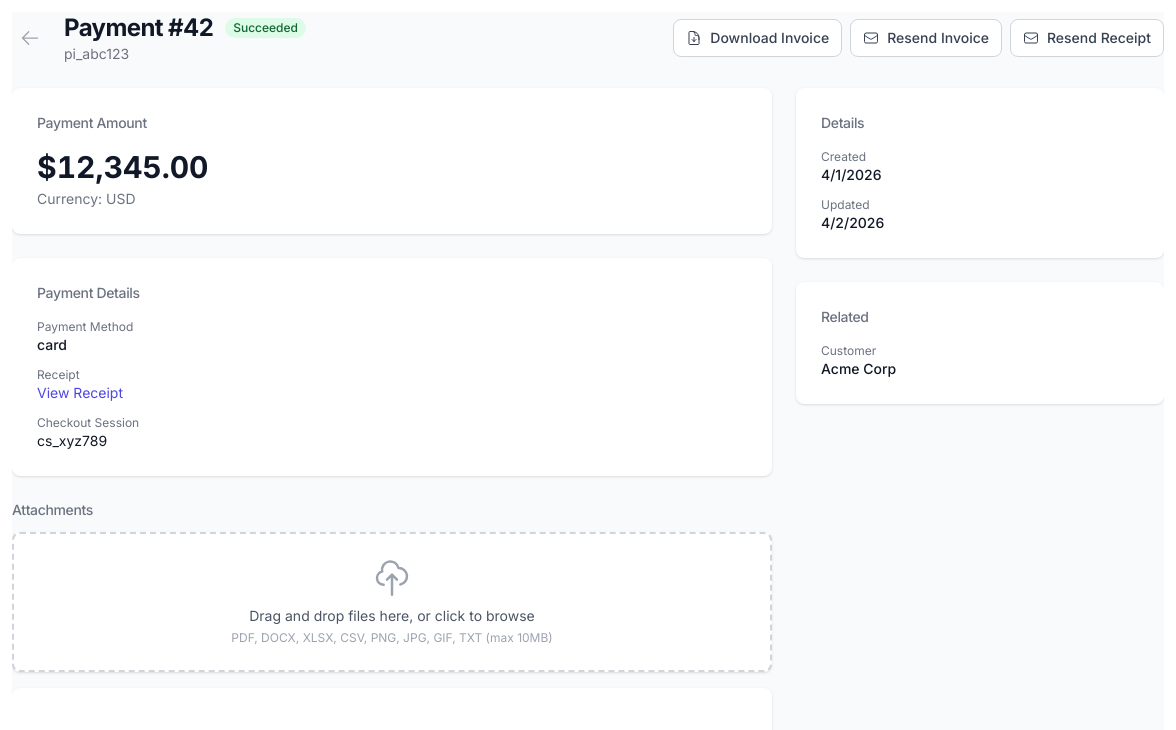
Test: PaymentDetailPage › resend receipt shows failure message when apiClient.post rejects
Click the button with aria-label "resend receipt email" at coordinates (1087, 38), box [1010,19,1164,57]
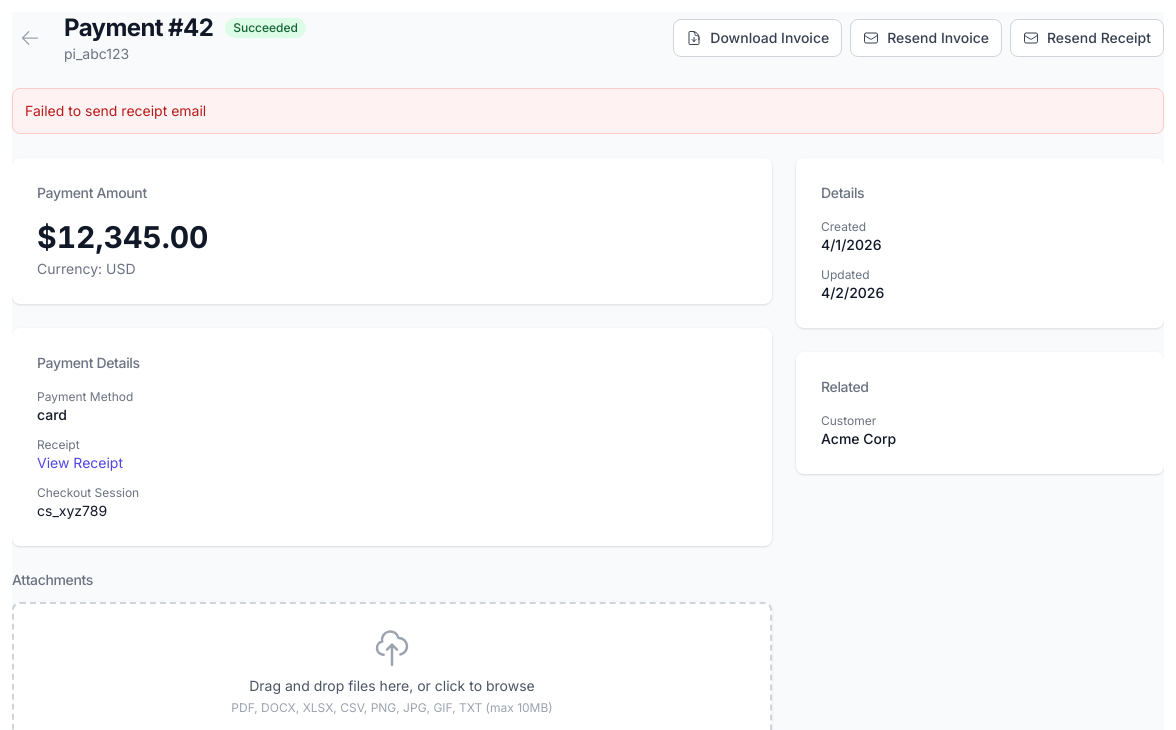
Expected: the message reads "Failed to send receipt email", [25,102,206,119]
